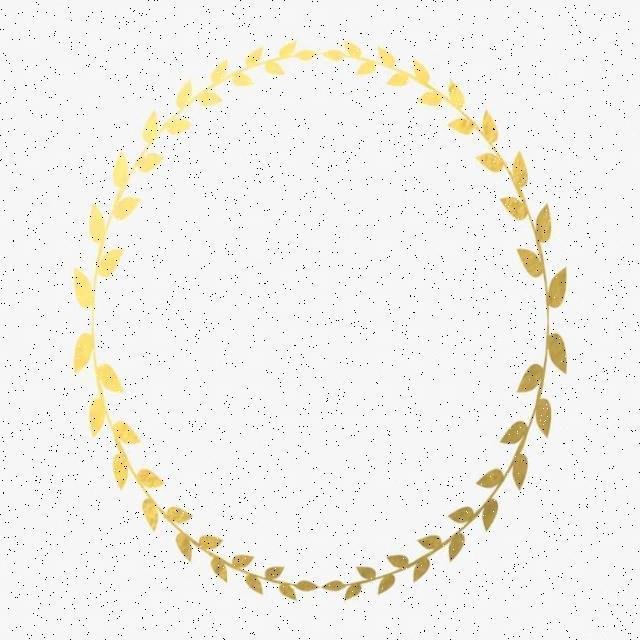Circle: (75, 49, 570, 588)
